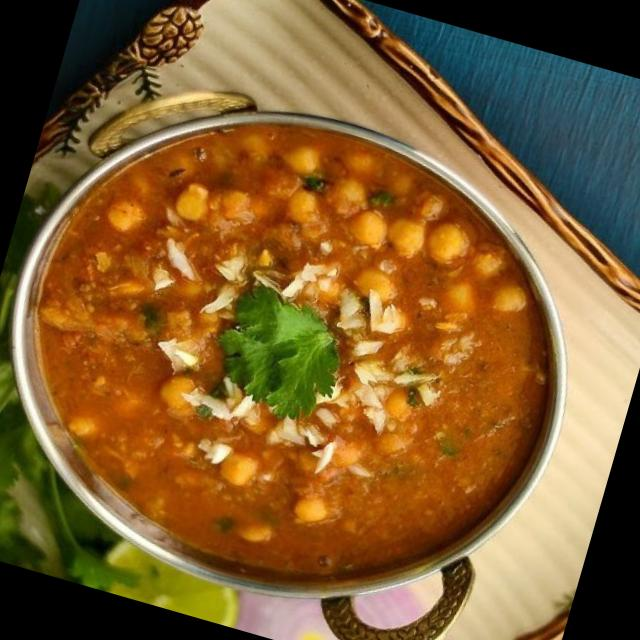Chole: (0, 65, 602, 633)
